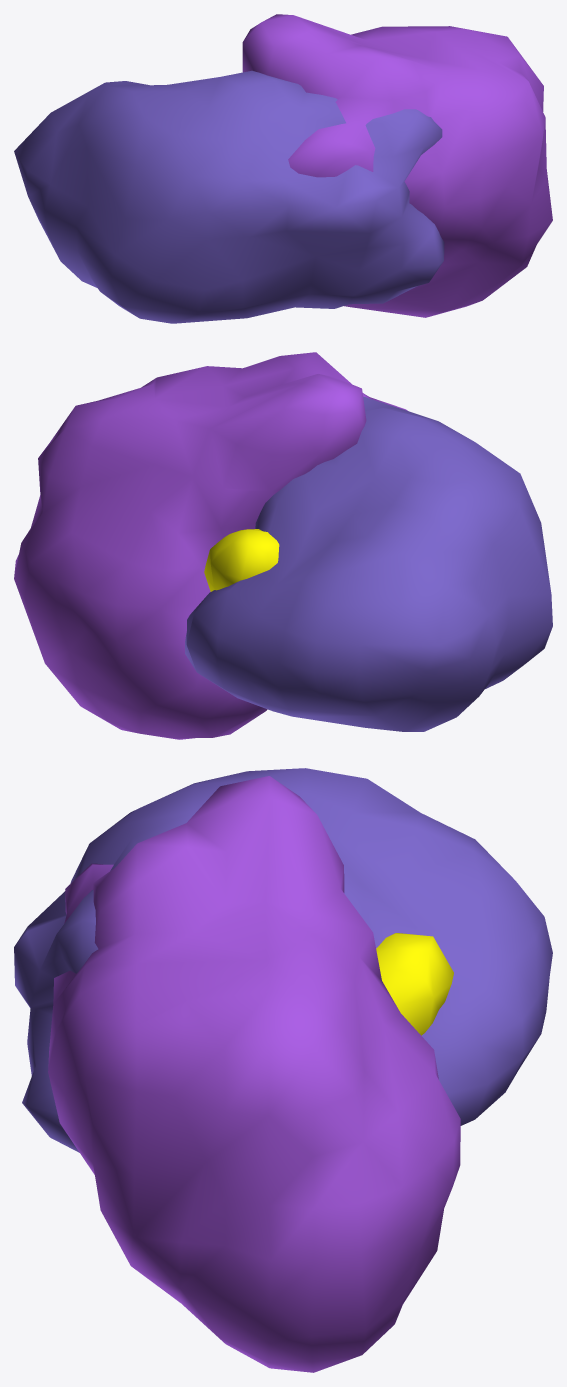
Rendered from HIV1_PR_7hvp_0_1_1.dae.
3 renders of one model, top to bottom at view 1: azimuth 30°, elevation 25°; view 2: azimuth 150°, elevation 25°; view 3: azimuth 270°, elevation 25°, orthographic. The views are drawn at different scales.
Parts seen in each view (by area): view 1: _7hvpACMS, _7hvpBCMS; view 2: _7hvpACMS, _7hvpBCMS, _7hvpCCMS; view 3: _7hvpBCMS, _7hvpACMS, _7hvpCCMS.
Part boxes in pixels (box(x1,y1,x2,y2)): _7hvpACMS: box(14, 70, 444, 323); _7hvpBCMS: box(242, 14, 552, 317); _7hvpACMS: box(185, 396, 552, 731); _7hvpBCMS: box(14, 352, 407, 739); _7hvpCCMS: box(204, 529, 279, 591); _7hvpBCMS: box(48, 776, 460, 1372); _7hvpACMS: box(14, 768, 552, 1152); _7hvpCCMS: box(376, 933, 453, 1035).
Size of the model in its own units: 57.33 by 39.91 by 41.73.
